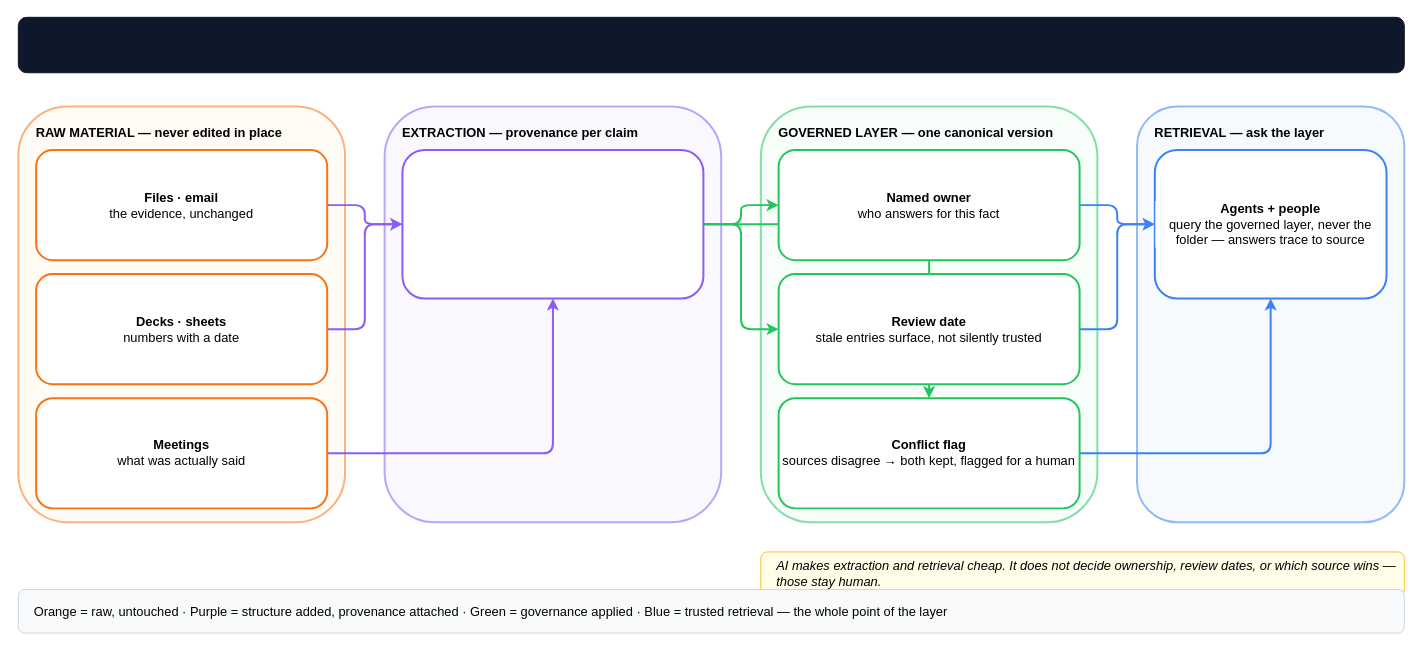
The diagram is 1422 pixels wide and 650 high, and some of its shapes have lost their labels. Here are the shapes that lost their labels. From the top down, the centre of each, then its label:
At pixel 710 44: "Messy material to governed knowledge — provenance at every claim".
At pixel 552 223: "Structure entities · dates · owners — every claim keeps its source pointer".
